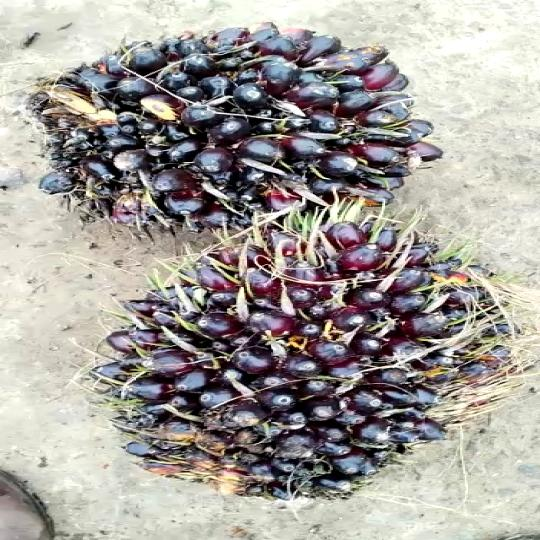mentah: (97, 208, 513, 516), (32, 19, 450, 229)
